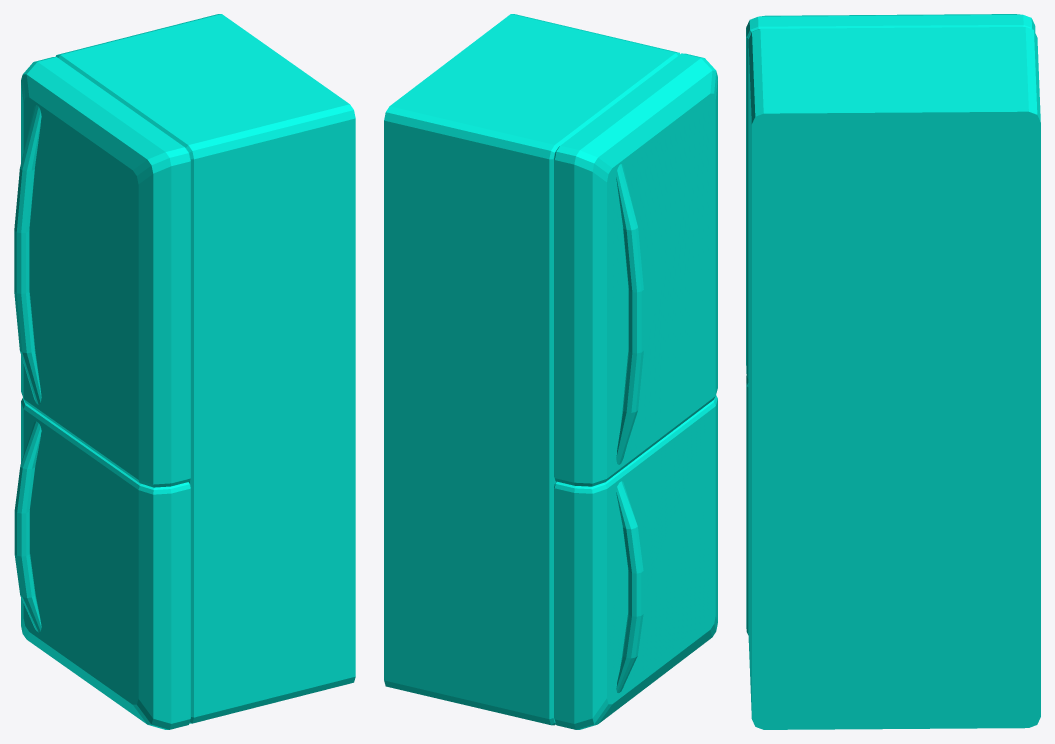
File: fridge.fbx
3 renders of one model, left to right at view 1: azimuth 30°, elevation 25°; view 2: azimuth 150°, elevation 25°; view 3: azimuth 270°, elevation 25°, orthographic. The views are drawn at different scales.
Parts seen in each view (by area): view 1: full_kitchen_fixed:polySurface150, full_kitchen_fixed:polySurface151, full_kitchen_fixed:polySurface157, full_kitchen_fixed:polySurface156, full_kitchen_fixed:polySurface147; view 2: full_kitchen_fixed:polySurface150, full_kitchen_fixed:polySurface151, full_kitchen_fixed:polySurface157, full_kitchen_fixed:polySurface156, full_kitchen_fixed:polySurface147; view 3: full_kitchen_fixed:polySurface150, full_kitchen_fixed:polySurface151, full_kitchen_fixed:polySurface157.
Part boxes in pixels (left/top/right/bottom): full_kitchen_fixed:polySurface150: left=55, top=14, right=355, bottom=723; full_kitchen_fixed:polySurface151: left=21, top=57, right=190, bottom=487; full_kitchen_fixed:polySurface157: left=21, top=398, right=190, bottom=729; full_kitchen_fixed:polySurface156: left=14, top=105, right=41, bottom=404; full_kitchen_fixed:polySurface147: left=14, top=421, right=41, bottom=632; full_kitchen_fixed:polySurface150: left=384, top=14, right=679, bottom=725; full_kitchen_fixed:polySurface151: left=554, top=53, right=717, bottom=486; full_kitchen_fixed:polySurface157: left=554, top=395, right=717, bottom=729; full_kitchen_fixed:polySurface156: left=616, top=164, right=643, bottom=464; full_kitchen_fixed:polySurface147: left=616, top=481, right=643, bottom=692; full_kitchen_fixed:polySurface150: left=748, top=27, right=1040, bottom=729; full_kitchen_fixed:polySurface151: left=746, top=14, right=1035, bottom=378; full_kitchen_fixed:polySurface157: left=746, top=376, right=748, bottom=635.
Bounding box in the file's own units: 84.37 × 200 × 86.66.
